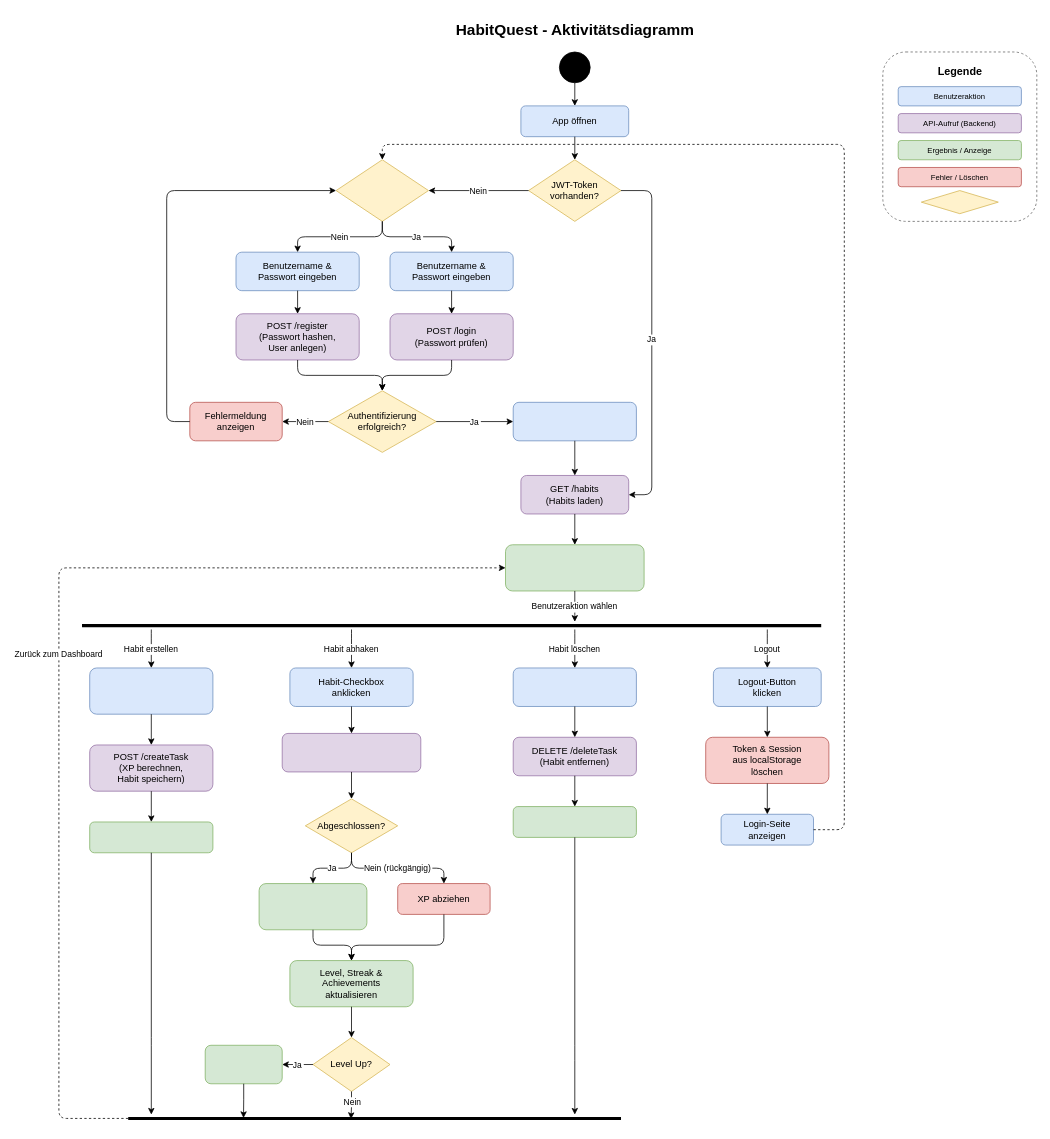
The diagram is 1050 pixels wide and 1139 high, and some of its shapes have lost their labels. Here are the shapes that lost their labels. From the top down, the centre of each, then its label:
the point at 382,190: Account vorhanden?
the point at 959,202: Entscheidung
the point at 574,421: JWT-Token in localStorage speichern
the point at 574,567: Dashboard anzeigen (Habits, Stats, Level, Achievements)
the point at 151,690: Name, Häufigkeit & Schwierigkeit eingeben
the point at 574,686: Löschen-Button klicken (×)
the point at 351,752: POST /toggleTaskCompletion (Status umschalten)
the point at 151,837: Habit in Liste anzeigen
the point at 574,821: Habit aus Liste entfernen
the point at 312,906: XP gutschreiben & Toast anzeigen (+XP)
the point at 243,1064: Level-Up Animation
